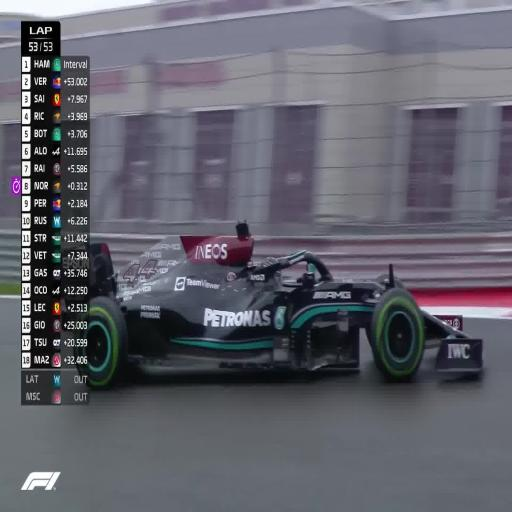f1_car: (74, 222, 482, 387), (63, 304, 66, 314), (77, 322, 85, 324)
